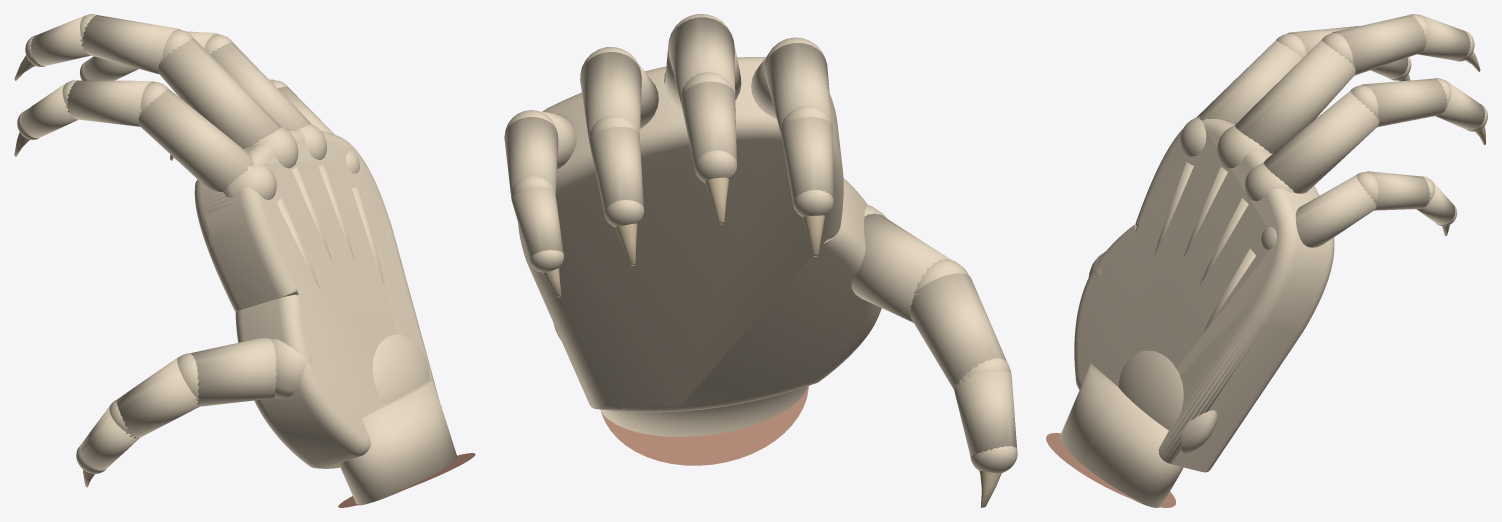
The model's file is hand-segmented.glb.
3 renders of one model, left to right at view 1: azimuth 30°, elevation 25°; view 2: azimuth 150°, elevation 25°; view 3: azimuth 270°, elevation 25°, orthographic. The views are drawn at different scales.
Parts seen in each view (by area): view 1: back_of_hand__back_surface, wrist__wrist, knuckles__middle_phalanx1, knuckles__index_phalanx1, palm__palm_surface, knuckles__thumb_phalanx1, middle_sections__middle_phalanx2, middle_sections__thumb_phalanx2, middle_sections__index_phalanx2, palm__palm_heel, knuckles__ring_phalanx1, fingertips__thumb_phalanx3 (+10 smaller); view 2: palm__palm_surface, back_of_hand__back_surface, middle_sections__thumb_phalanx2, knuckles__thumb_phalanx1, wrist__wrist_stump_cut, wrist__wrist, fingertips__thumb_phalanx3, middle_sections__index_phalanx2, middle_sections__ring_phalanx2, middle_sections__middle_phalanx2, fingertips__middle_phalanx3, fingertips__index_phalanx3 (+16 smaller); view 3: back_of_hand__back_surface, palm__palm_surface, wrist__wrist, knuckles__middle_phalanx1, knuckles__ring_phalanx1, palm__palm_heel, knuckles__index_phalanx1, knuckles__pinky_phalanx1, middle_sections__middle_phalanx2, middle_sections__ring_phalanx2, middle_sections__pinky_phalanx2, fingertips__middle_phalanx3 (+12 smaller).
Boxes of the visible parts, x1,y1,x2,y2 form: back_of_hand__back_surface: (204, 157, 438, 468); wrist__wrist: (340, 378, 457, 505); knuckles__middle_phalanx1: (158, 38, 280, 148); knuckles__index_phalanx1: (138, 88, 254, 191); palm__palm_surface: (194, 129, 431, 378); knuckles__thumb_phalanx1: (189, 338, 276, 406); middle_sections__middle_phalanx2: (82, 15, 180, 74); middle_sections__thumb_phalanx2: (116, 357, 199, 438); middle_sections__index_phalanx2: (67, 80, 154, 126); palm__palm_heel: (372, 334, 429, 404); knuckles__ring_phalanx1: (210, 42, 311, 129); fingertips__thumb_phalanx3: (79, 404, 138, 470); palm__palm_surface: (518, 57, 841, 410); back_of_hand__back_surface: (611, 94, 881, 412); middle_sections__thumb_phalanx2: (910, 273, 1006, 389); knuckles__thumb_phalanx1: (851, 213, 952, 322); wrist__wrist_stump_cut: (601, 386, 808, 465); wrist__wrist: (600, 386, 808, 436); fingertips__thumb_phalanx3: (954, 371, 1017, 456); middle_sections__index_phalanx2: (764, 43, 832, 132); middle_sections__ring_phalanx2: (580, 52, 641, 140); middle_sections__middle_phalanx2: (668, 17, 735, 103); fingertips__middle_phalanx3: (681, 81, 736, 166); fingertips__index_phalanx3: (781, 117, 833, 202); back_of_hand__back_surface: (1074, 116, 1276, 471); palm__palm_surface: (1164, 118, 1334, 472); wrist__wrist: (1059, 364, 1183, 507); knuckles__middle_phalanx1: (1234, 40, 1355, 153); knuckles__ring_phalanx1: (1263, 90, 1379, 193); palm__palm_heel: (1118, 350, 1217, 453); knuckles__index_phalanx1: (1197, 40, 1302, 124); knuckles__pinky_phalanx1: (1295, 175, 1376, 247); middle_sections__middle_phalanx2: (1332, 15, 1425, 75); middle_sections__ring_phalanx2: (1361, 78, 1447, 126); middle_sections__pinky_phalanx2: (1366, 171, 1430, 210); fingertips__middle_phalanx3: (1417, 14, 1470, 60).
Bounding box in the file's own units: 0.1439 × 0.1679 × 0.1635.
